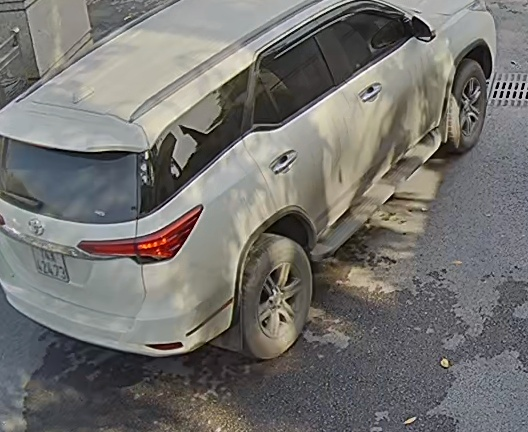vehicle plate: (26, 240, 75, 287)
